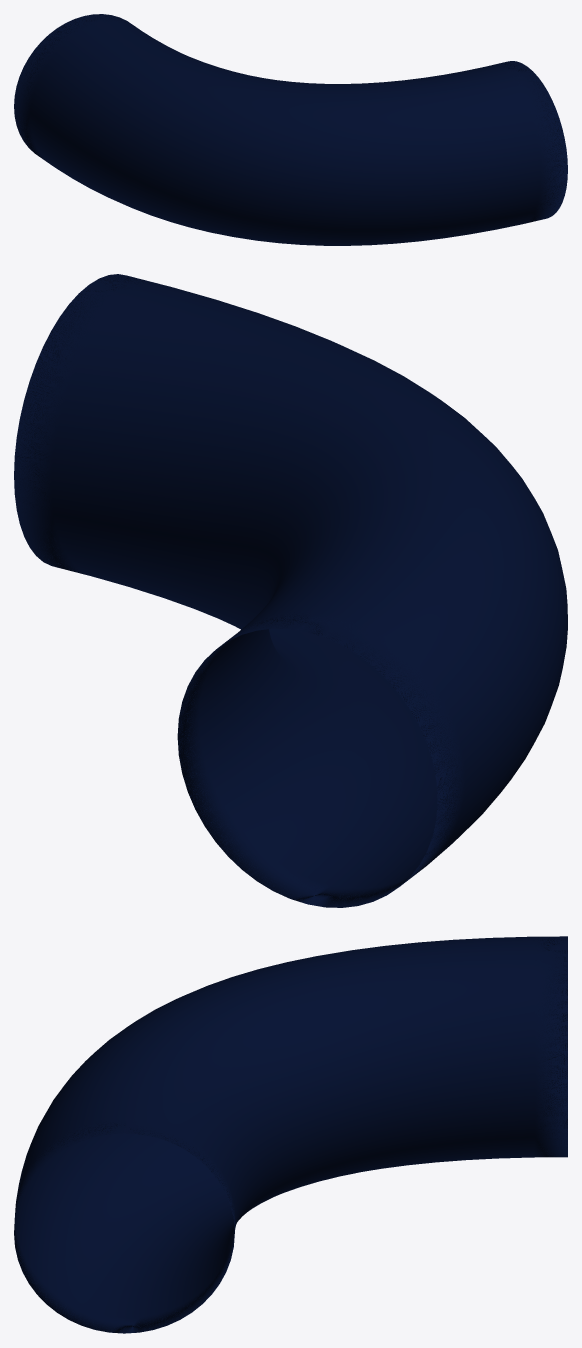
The model's file is pipeCurvedWtexture.fbx.
The picture shows the model from 3 angles, top to bottom: view 1: azimuth 30°, elevation 25°; view 2: azimuth 150°, elevation 25°; view 3: azimuth 270°, elevation 25°; orthographic projection. The views are drawn at different scales.
Visible parts, largest first — view 1: NurbsPath.001; view 2: NurbsPath.001; view 3: NurbsPath.001.
Part boxes in pixels (<box>): NurbsPath.001: <box>14,14,567,245</box>; NurbsPath.001: <box>14,274,567,907</box>; NurbsPath.001: <box>14,936,567,1333</box>.
Size of the model in its own units: 125 by 50 by 125.
